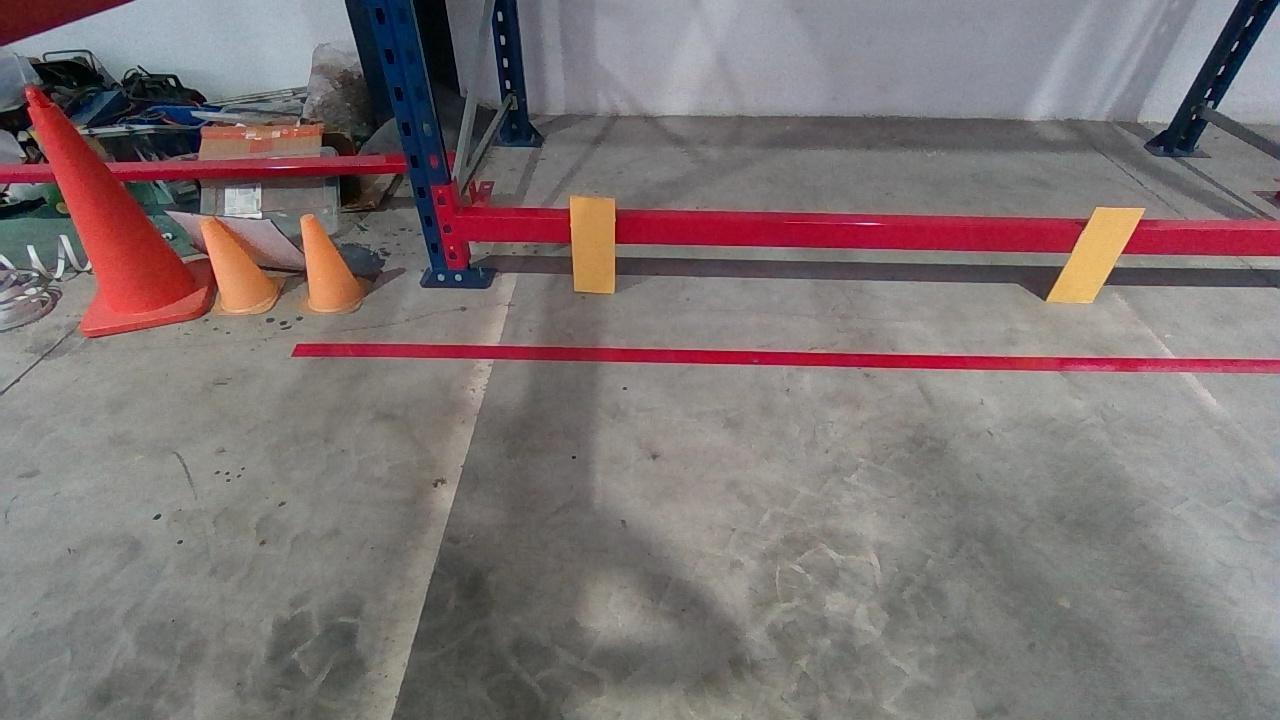h_rack: (462, 213, 1279, 256)
orange_strip: (1045, 205, 1148, 302), (569, 195, 616, 293)
red_line: (293, 341, 1279, 373)
